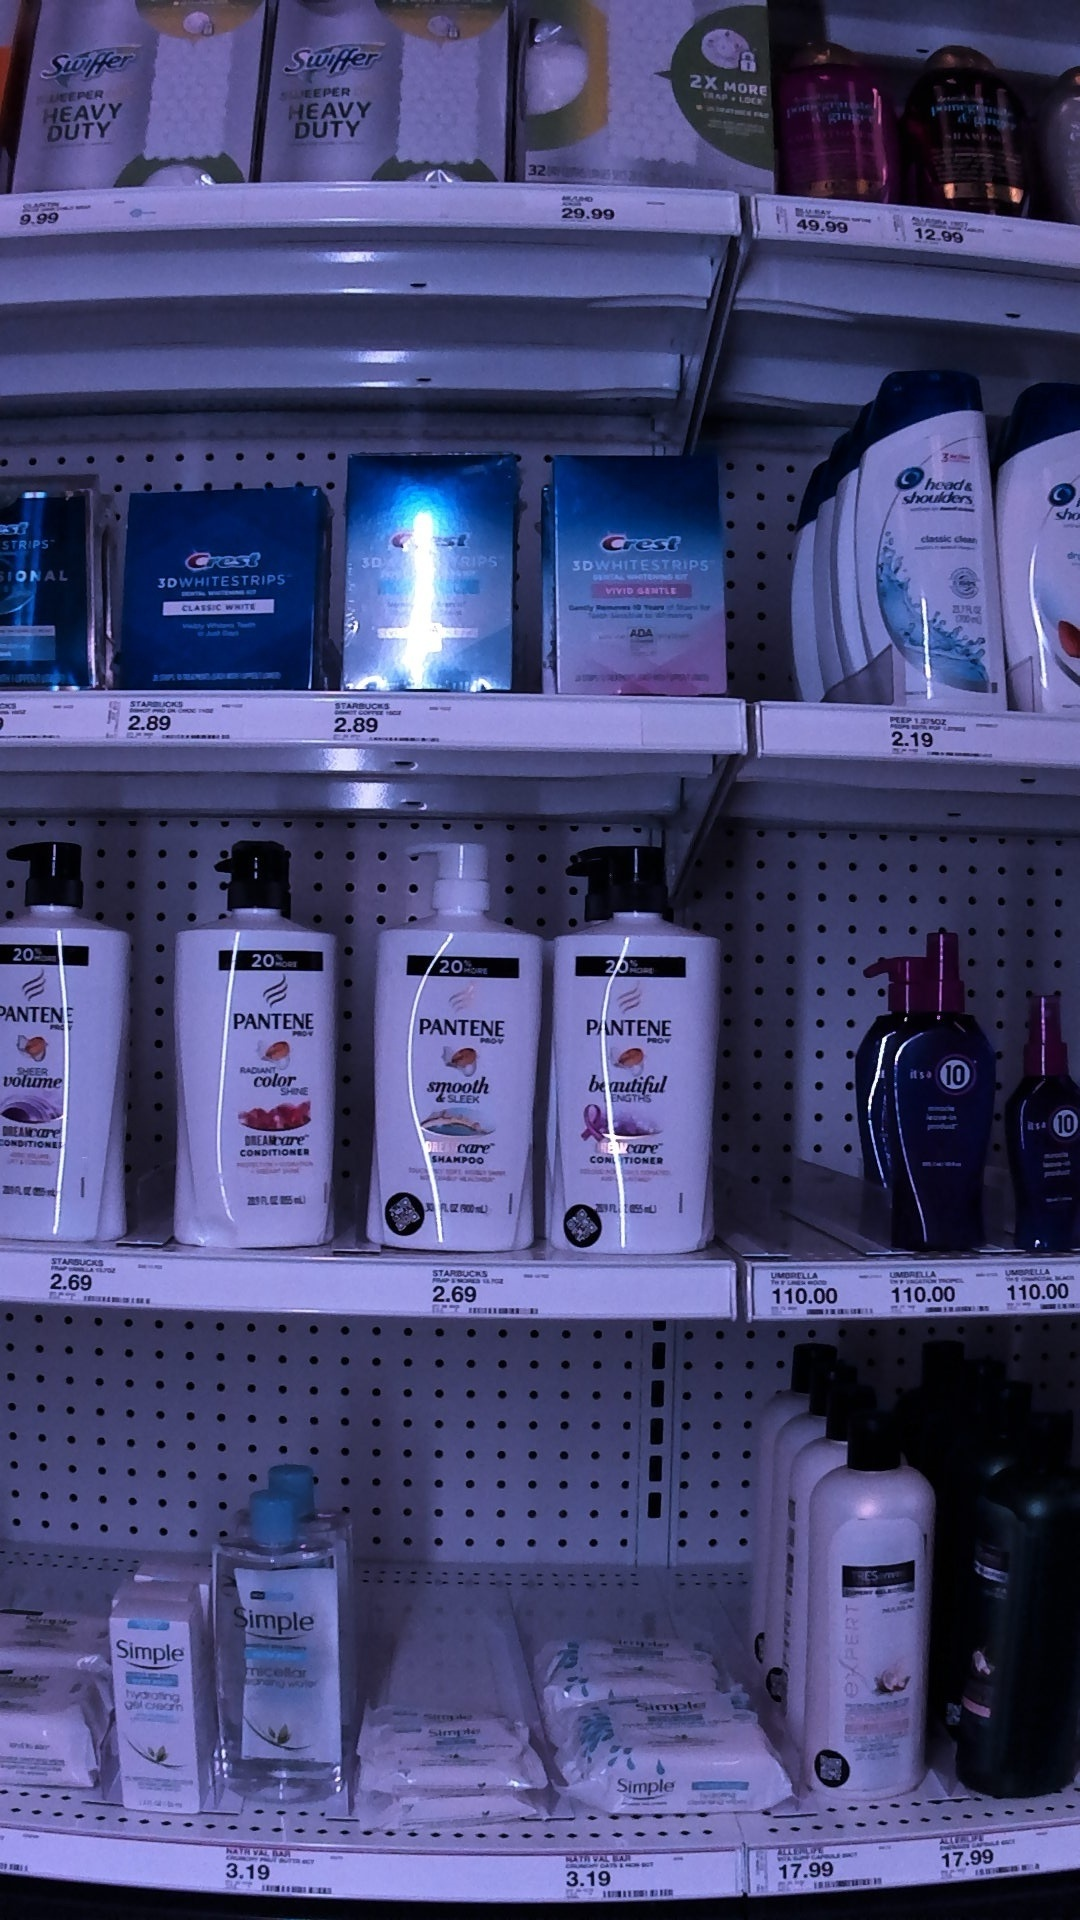ptag: (426, 1255, 558, 1327), (756, 1836, 889, 1898), (211, 1837, 344, 1898), (889, 705, 1018, 764), (42, 1246, 160, 1309), (558, 1846, 691, 1902), (331, 688, 458, 746), (744, 1262, 864, 1323), (878, 1262, 984, 1324), (117, 694, 233, 749), (942, 1829, 1044, 1886), (1, 189, 111, 240), (769, 196, 880, 240), (1002, 1261, 1075, 1315), (549, 179, 620, 225), (909, 200, 980, 247)
